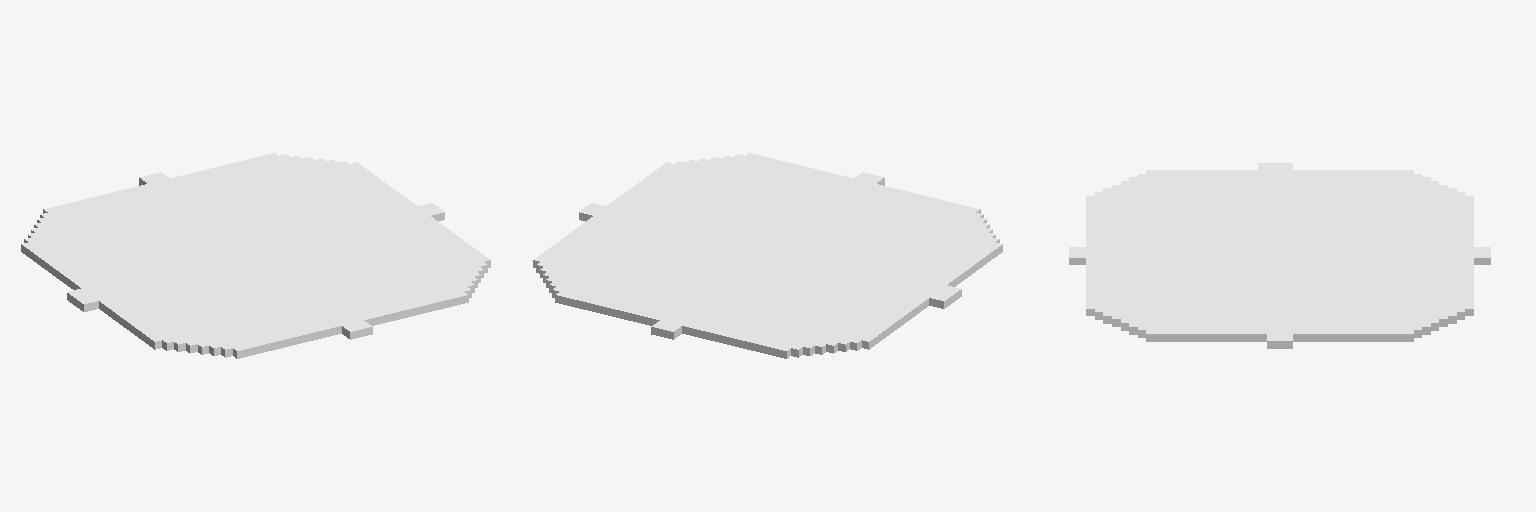
The model's file is InitBase.obj.
3 renders of one model, left to right at view 1: azimuth 30°, elevation 25°; view 2: azimuth 150°, elevation 25°; view 3: azimuth 270°, elevation 25°, orthographic.
Size of the model in its own units: 49 by 1 by 49.